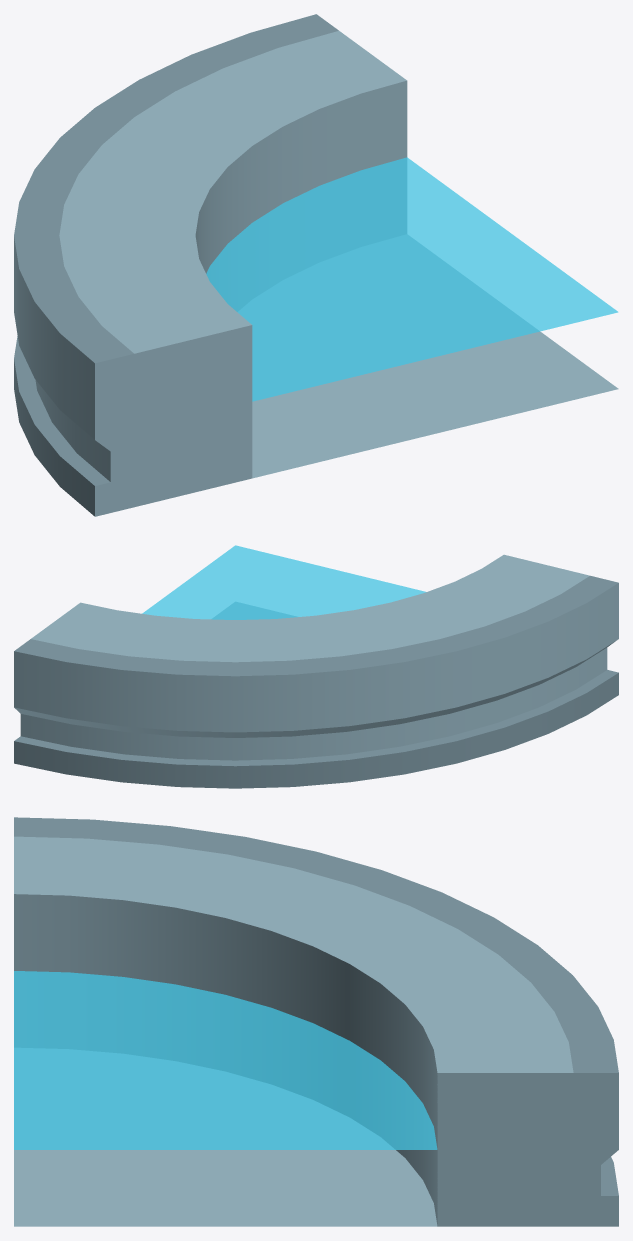
File: fountainCurved.fbx
3 views of the same model, one above another, from view 1: azimuth 30°, elevation 25°; view 2: azimuth 150°, elevation 25°; view 3: azimuth 270°, elevation 25° (orthographic). The views are drawn at different scales.
Parts seen in each view (by area): view 1: fountainCurved; view 2: fountainCurved; view 3: fountainCurved.
Boxes of the visible parts, left/top/right/bottom form: fountainCurved: left=14, top=14, right=618, bottom=516; fountainCurved: left=14, top=545, right=618, bottom=788; fountainCurved: left=14, top=817, right=618, bottom=1226.
Size of the model in its own units: 10 by 2.8 by 10.
